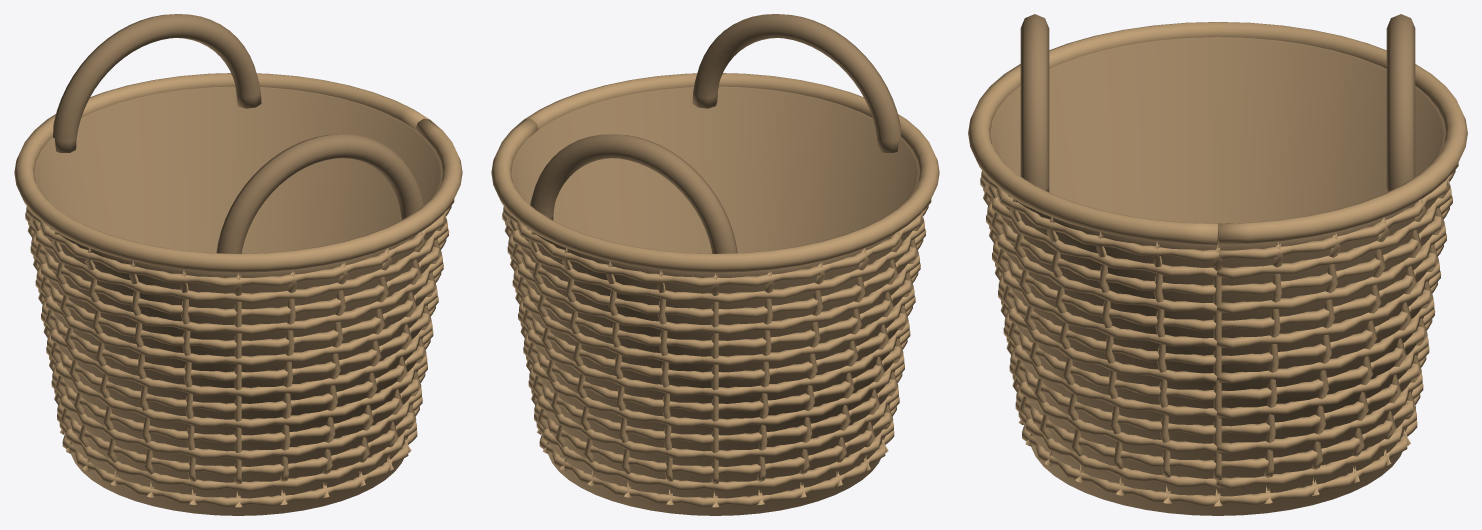
The model's file is willow_basket.glb.
3 views of the same model, side by side, from view 1: azimuth 30°, elevation 25°; view 2: azimuth 150°, elevation 25°; view 3: azimuth 270°, elevation 25° (orthographic). The views are drawn at different scales.
Parts seen in each view (by area): view 1: willow_basket__accent, willow_basket__body; view 2: willow_basket__accent, willow_basket__body; view 3: willow_basket__accent, willow_basket__body.
Part boxes in pixels (x1,y1,x2,y2): willow_basket__accent: (34, 14, 442, 515); willow_basket__body: (14, 73, 462, 507); willow_basket__accent: (511, 14, 919, 515); willow_basket__body: (491, 73, 939, 507); willow_basket__accent: (990, 14, 1445, 515); willow_basket__body: (968, 22, 1467, 506).
Size of the model in its own units: 0.314 by 0.284 by 0.314.
